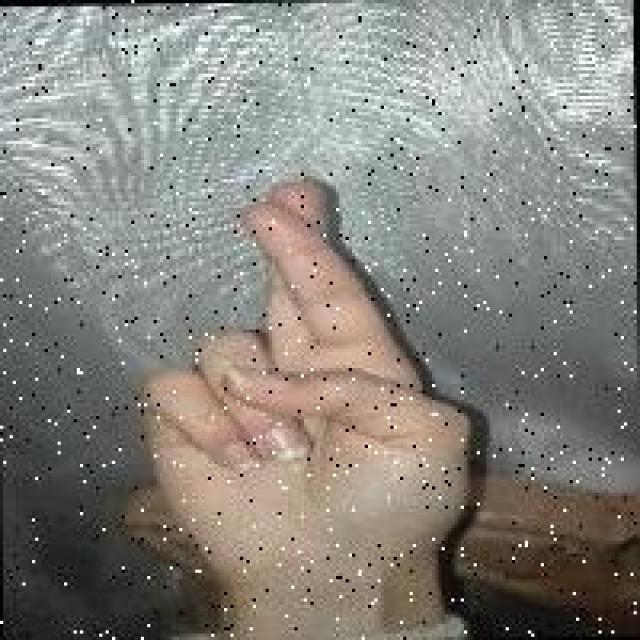R: (130, 168, 488, 574)
